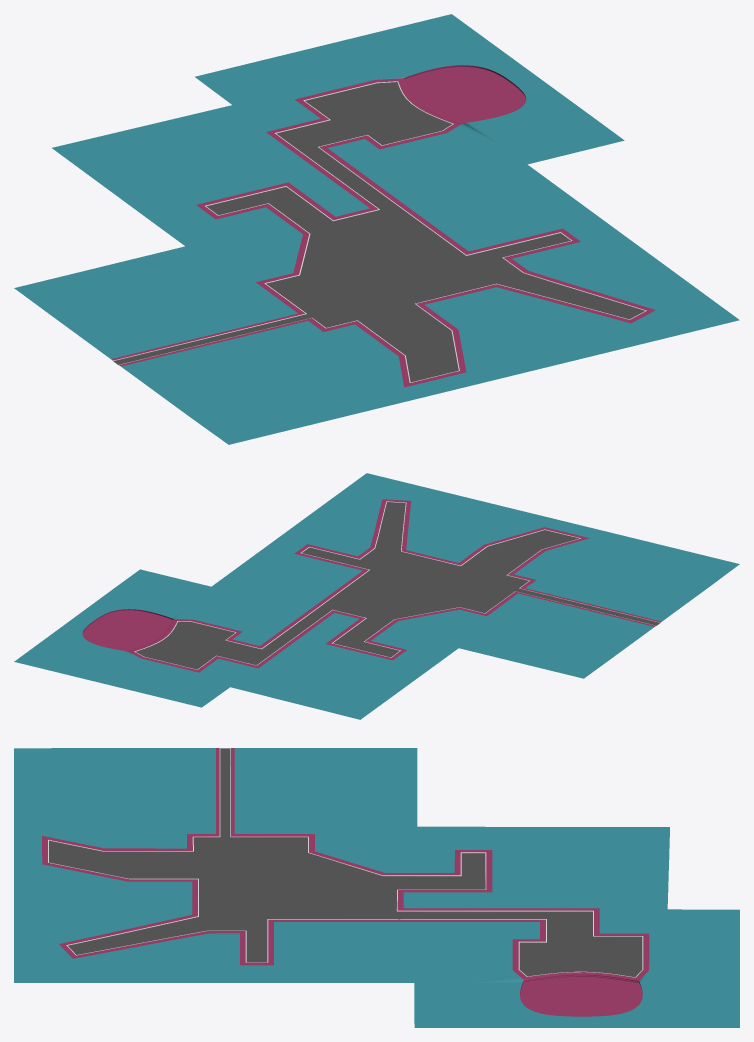
File: Advertising-Hell-Terrain-City.fbx
3 renders of one model, top to bottom at view 1: azimuth 30°, elevation 25°; view 2: azimuth 150°, elevation 25°; view 3: azimuth 270°, elevation 25°, orthographic. The views are drawn at different scales.
Visible parts, largest first — view 1: Advertising-Hell-Terrain-City; view 2: Advertising-Hell-Terrain-City; view 3: Advertising-Hell-Terrain-City.
Boxes of the visible parts, x1,y1,x2,y2 form: Advertising-Hell-Terrain-City: (14, 14, 739, 444); Advertising-Hell-Terrain-City: (14, 473, 739, 719); Advertising-Hell-Terrain-City: (14, 748, 739, 1027).
Size of the model in its own units: 38848 by 105 by 42575.
